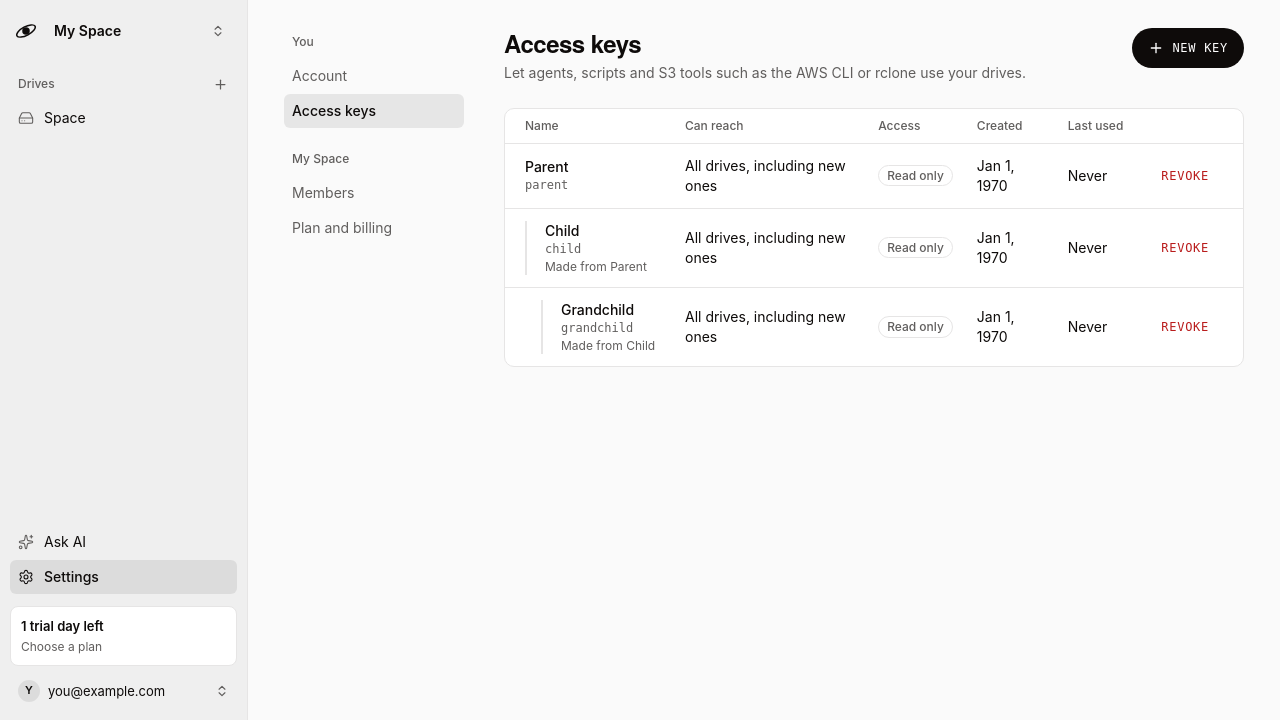
Test: groups keys made from another key under it and revokes them together
Expected: the text "Parent" is shown, [525,158,568,175]
Expected: the text "Made from Parent" is shown, [545,258,661,275]
Click the button with aria-label "Revoke Parent" at (1185, 176), box [1147,160,1223,192]
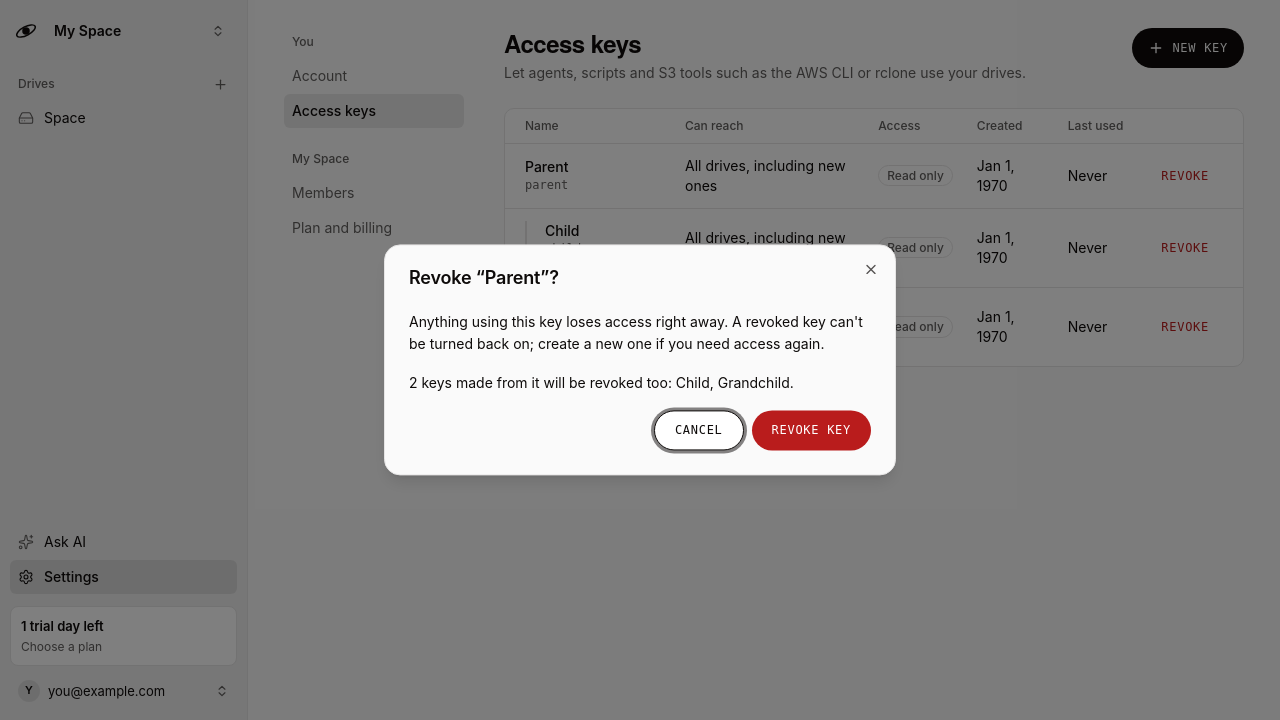
Now the dialog shows "2 keys made from it will be revoked too: Child, Grandchild.", box [384,244,896,476]
Click the button "Revoke key" at (811, 431), box [752,411,871,451]
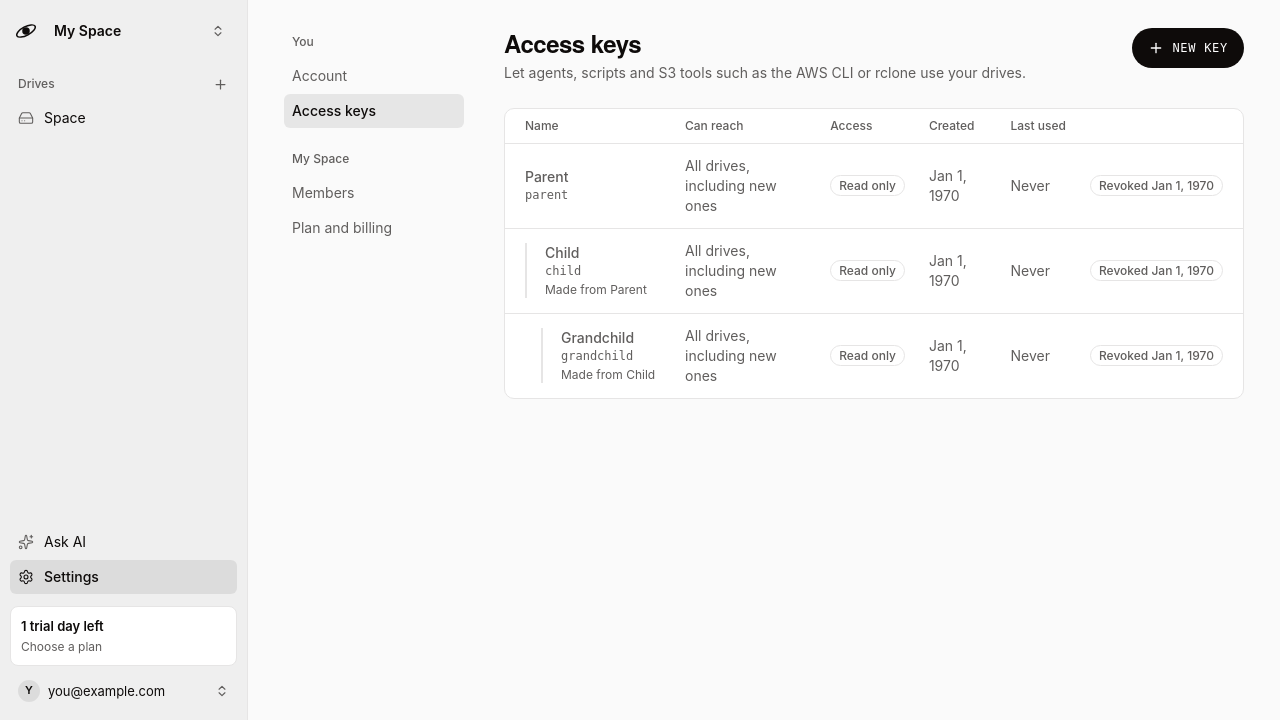
Now the table "Revoke Child" is gone
Now the text "Revoked Jan 1, 1970" is shown 3 times, box [1090,175,1223,196]; [1090,260,1223,281]; [1090,345,1223,366]
